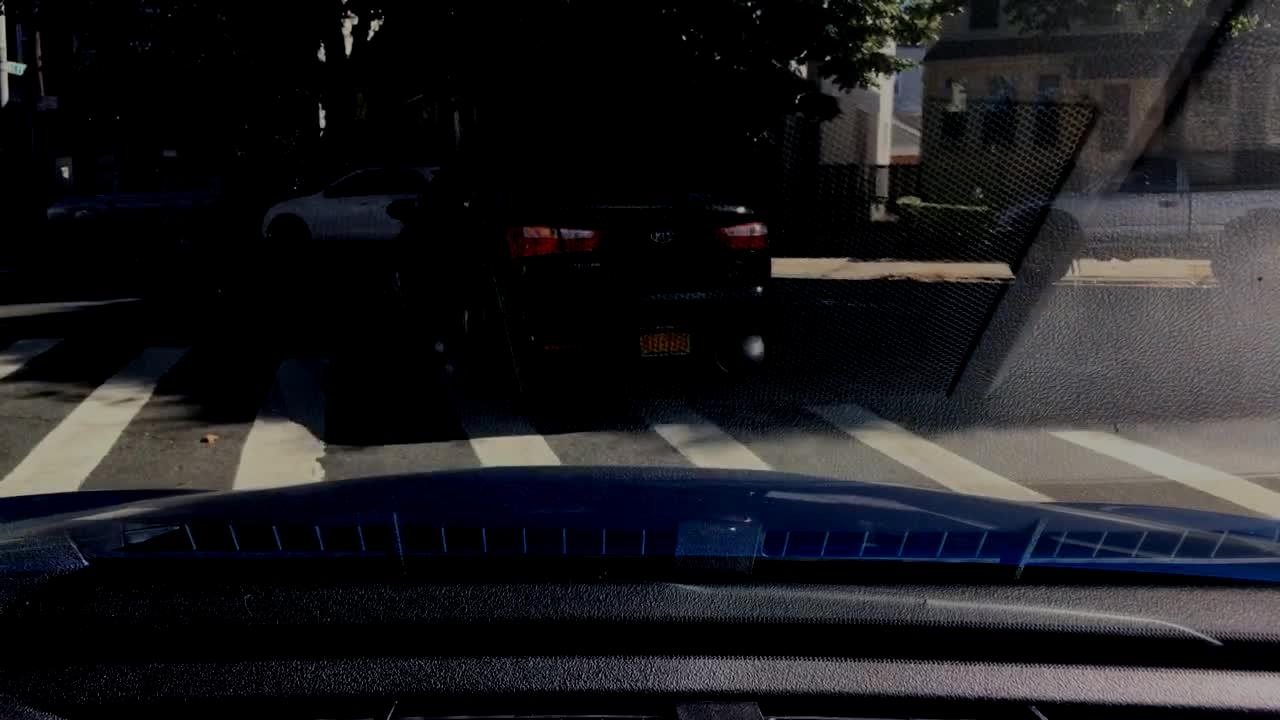kia: (644, 223, 686, 248)
